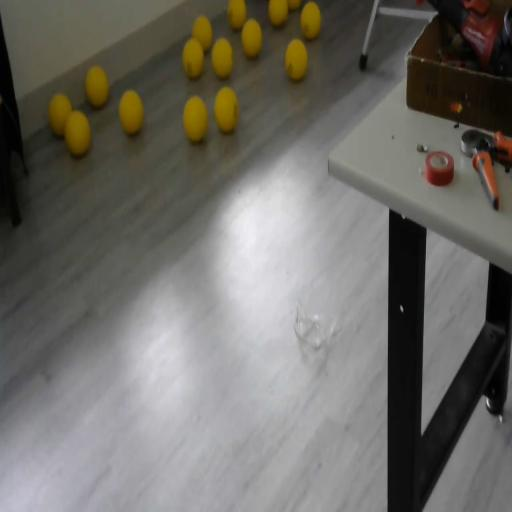FUEL: (64, 109, 92, 156), (182, 95, 209, 143), (213, 85, 239, 133), (118, 88, 144, 135), (84, 64, 110, 108), (284, 37, 308, 82), (210, 35, 234, 79), (192, 14, 214, 54), (241, 18, 263, 58), (300, 0, 322, 39), (227, 0, 247, 30), (268, 0, 288, 27), (286, 0, 302, 11)
